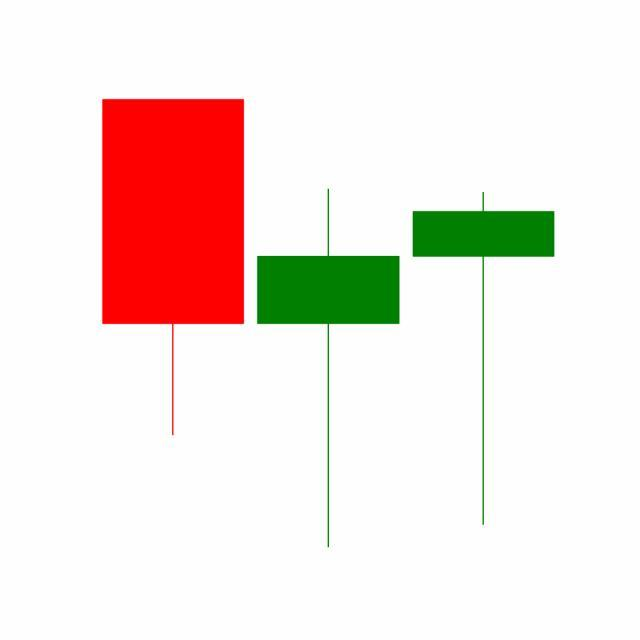Hanging Man: (406, 189, 562, 530)
